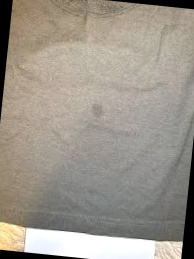oil: (81, 97, 110, 132)
